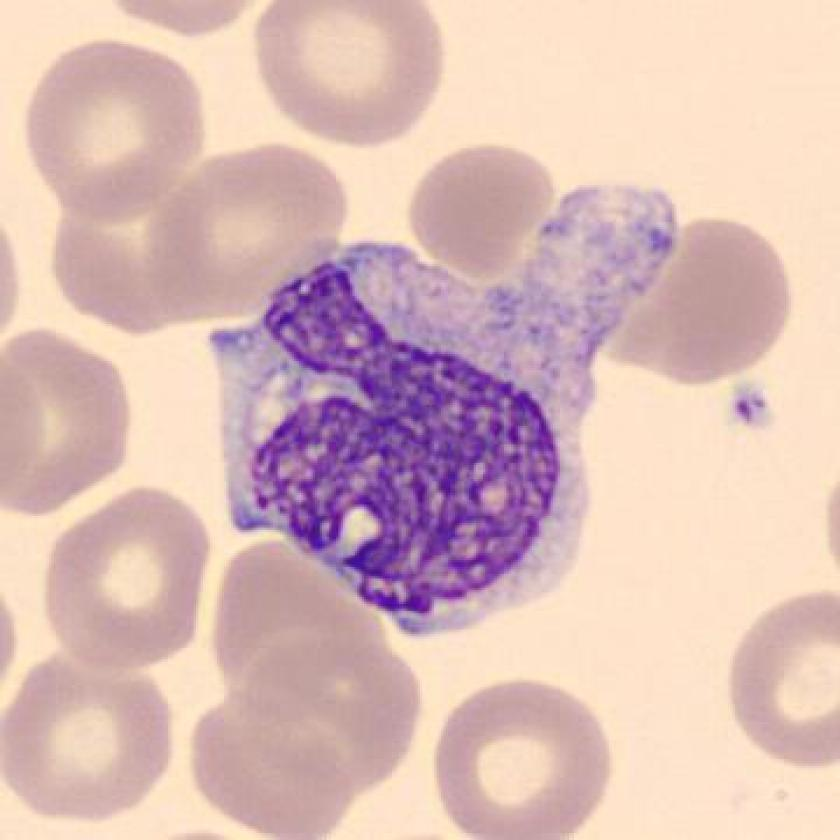monocyte: (195, 152, 685, 659)
